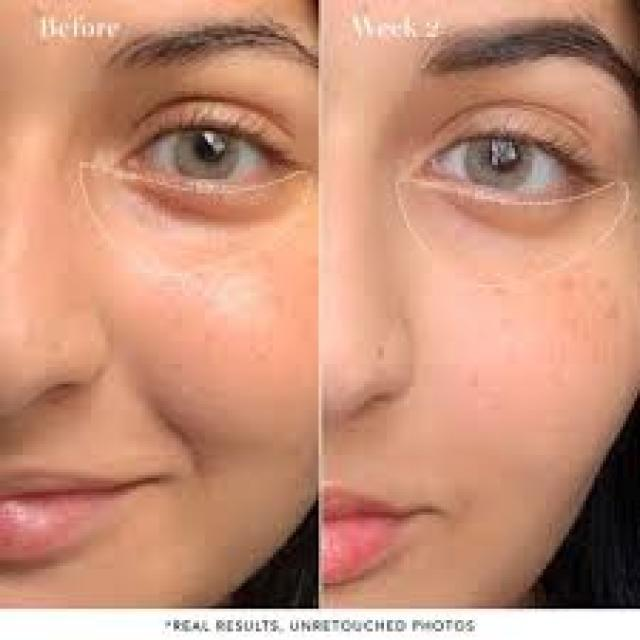Puffy Eyes - v3 Dark Circle: (110, 174, 296, 247)
